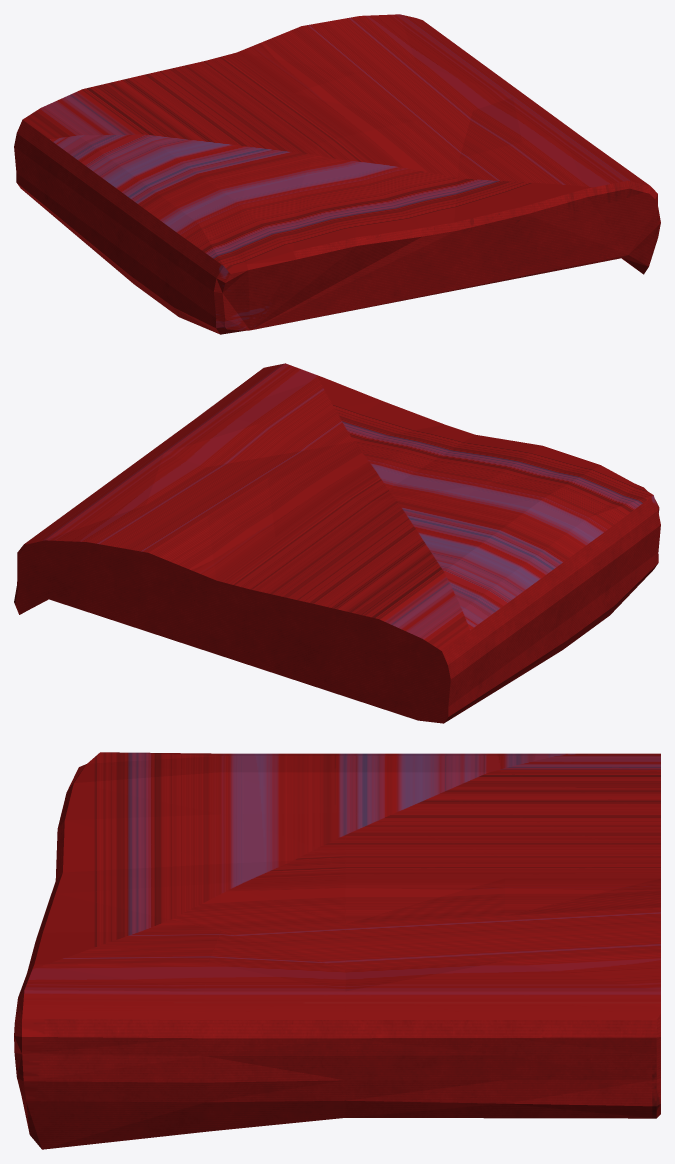
The model's file is posciel.obj.
The picture shows the model from 3 angles, top to bottom: view 1: azimuth 30°, elevation 25°; view 2: azimuth 150°, elevation 25°; view 3: azimuth 270°, elevation 25°; orthographic projection. The views are drawn at different scales.
Visible parts, largest first — view 1: Cube.039_Cube.041; view 2: Cube.039_Cube.041; view 3: Cube.039_Cube.041.
Part boxes in pixels (left/top/right/bottom): Cube.039_Cube.041: left=14, top=14, right=660, bottom=334; Cube.039_Cube.041: left=14, top=363, right=660, bottom=723; Cube.039_Cube.041: left=14, top=752, right=660, bottom=1149.
Size of the model in its own units: 1.04 by 0.2747 by 1.
Materials: 1 (1 with a texture image).
